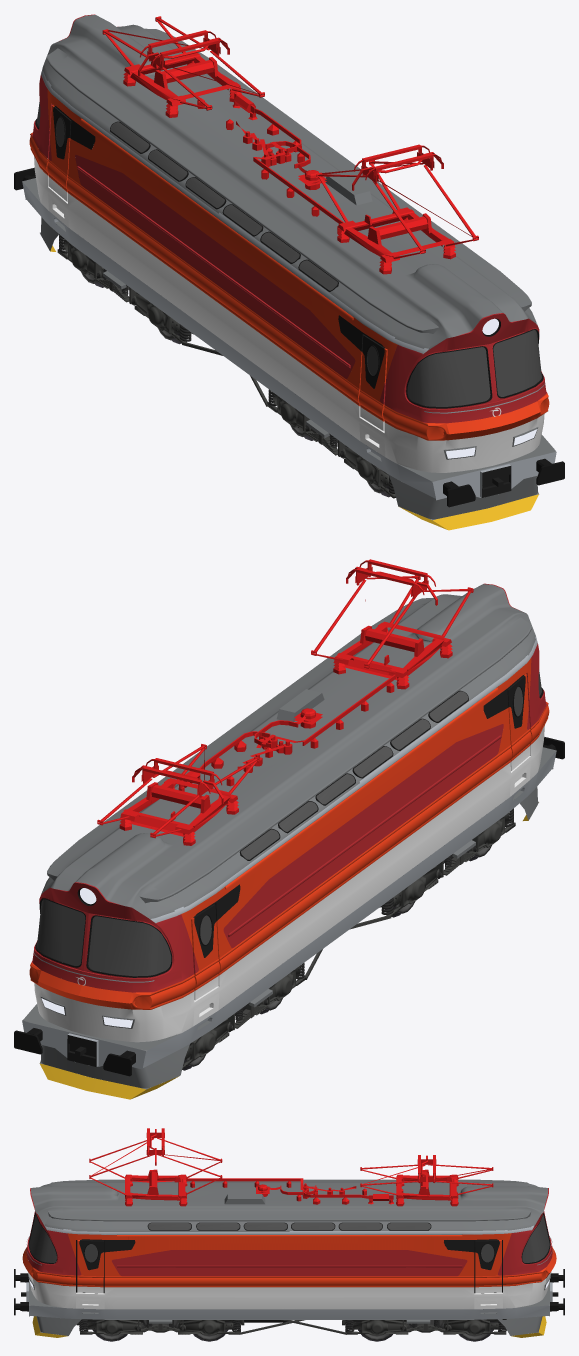
The model's file is lok240.glb.
3 renders of one model, top to bottom at view 1: azimuth 30°, elevation 25°; view 2: azimuth 150°, elevation 25°; view 3: azimuth 270°, elevation 25°, orthographic. The views are drawn at different scales.
Parts seen in each view (by area): view 1: Laminatka.001, 380 details.036, DB218_Chassis_Boggies.147, DB218_Chassis_Boggies.146, persing.003, Cylinder.009; view 2: Laminatka.001, 380 details.036, DB218_Chassis_Boggies.146, DB218_Chassis_Boggies.147, persing.003, Cylinder.009; view 3: Laminatka.001, Cube.070, 380 details.036, DB218_Chassis_Boggies.146, DB218_Chassis_Boggies.147, persing.003, Cylinder.009.
Part boxes in pixels (left/top/right/bottom): Laminatka.001: left=22, top=14, right=556, bottom=530; 380 details.036: left=102, top=16, right=478, bottom=274; DB218_Chassis_Boggies.147: left=57, top=234, right=222, bottom=355; DB218_Chassis_Boggies.146: left=250, top=375, right=395, bottom=498; persing.003: left=14, top=167, right=564, bottom=507; Cylinder.009: left=55, top=116, right=379, bottom=376; Laminatka.001: left=22, top=583, right=556, bottom=1099; 380 details.036: left=97, top=559, right=473, bottom=845; DB218_Chassis_Boggies.146: left=350, top=808, right=515, bottom=929; DB218_Chassis_Boggies.147: left=182, top=949, right=322, bottom=1070; persing.003: left=14, top=737, right=564, bottom=1076; Cylinder.009: left=79, top=685, right=523, bottom=945; Laminatka.001: left=21, top=1179, right=558, bottom=1337; Cube.070: left=117, top=1236, right=461, bottom=1265; 380 details.036: left=89, top=1128, right=493, bottom=1322; DB218_Chassis_Boggies.146: left=76, top=1313, right=304, bottom=1341; DB218_Chassis_Boggies.147: left=281, top=1313, right=506, bottom=1341; persing.003: left=14, top=1269, right=564, bottom=1315; Cylinder.009: left=84, top=1243, right=494, bottom=1262.
Bounding box in the file's own units: 2.8 × 5.22 × 13.66.
18 materials, 1 textured.
